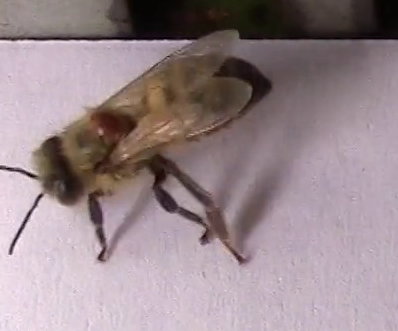Varroa destructor: (86, 106, 132, 145)
